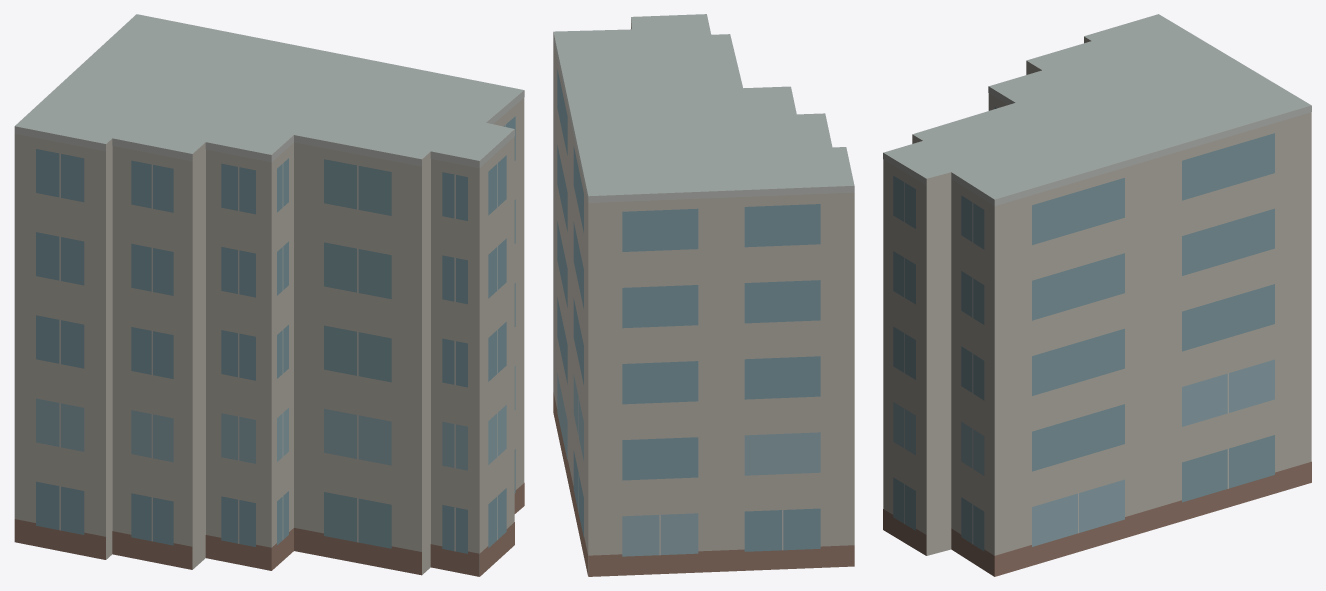
The model's file is survey-upis-32624734.glb.
3 renders of one model, left to right at view 1: azimuth 30°, elevation 25°; view 2: azimuth 150°, elevation 25°; view 3: azimuth 270°, elevation 25°, orthographic. The views are drawn at different scales.
Parts seen in each view (by area): view 1: survey-upis-32624734.tmp; view 2: survey-upis-32624734.tmp; view 3: survey-upis-32624734.tmp.
Part boxes in pixels (x1,y1,x2,y2): survey-upis-32624734.tmp: [14, 14, 524, 576]; survey-upis-32624734.tmp: [553, 14, 854, 576]; survey-upis-32624734.tmp: [883, 14, 1311, 576].
Bounding box in the file's own units: 14.57 × 13.8 × 14.22.
